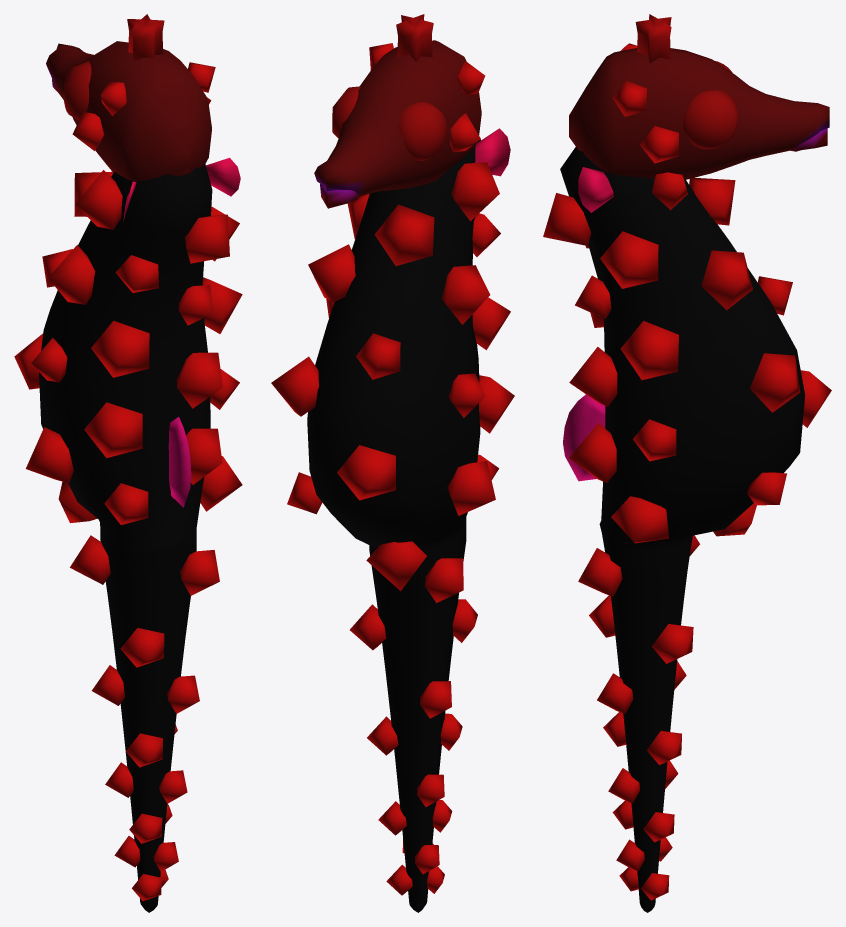
Rendered from seahorse_pygmy_game.glb.
3 renders of one model, left to right at view 1: azimuth 30°, elevation 25°; view 2: azimuth 150°, elevation 25°; view 3: azimuth 270°, elevation 25°, orthographic.
Visible parts, largest first — view 1: seahorse_pygmy_game; view 2: seahorse_pygmy_game; view 3: seahorse_pygmy_game.
Boxes of the visible parts, x1=… form: seahorse_pygmy_game: x1=14, y1=14, x2=242, y2=912; seahorse_pygmy_game: x1=271, y1=14, x2=514, y2=912; seahorse_pygmy_game: x1=543, y1=14, x2=831, y2=912.
Size of the model in its own units: 0.0343 by 0.15 by 0.0441.
